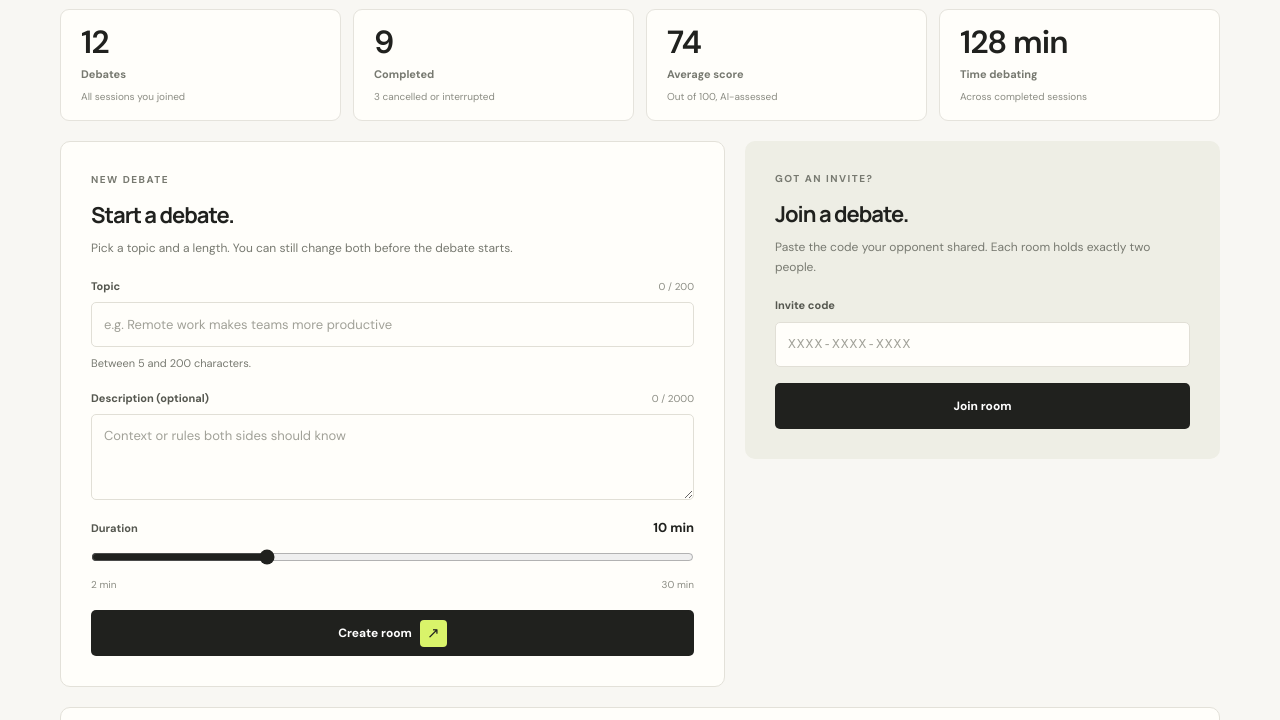
Test: DashboardPage › explains join failures
This screenshot has width=1280, height=720.
(page scrolled)
Click the button "Join room" at coordinates (982, 406), box x1=775 y1=383 x2=1190 y2=429
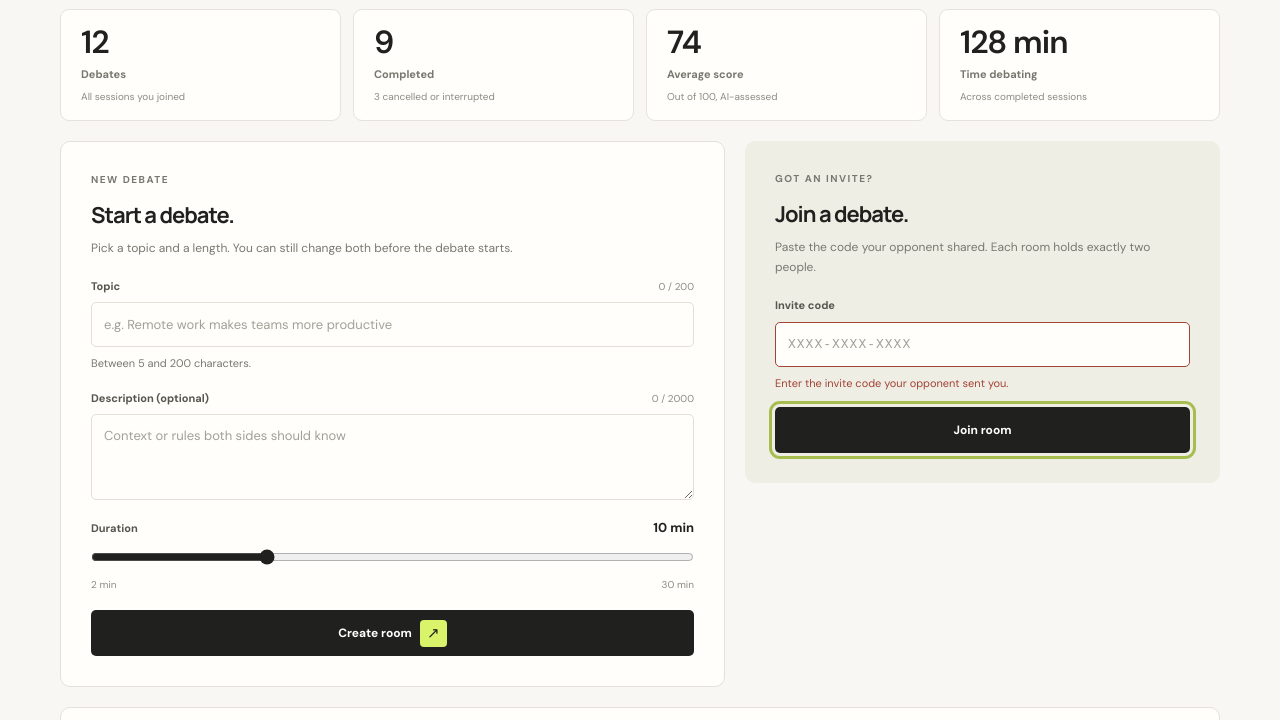
Type "expired" into the field labelled "Invite code" at coordinates (982, 344), box x1=775 y1=322 x2=1190 y2=367
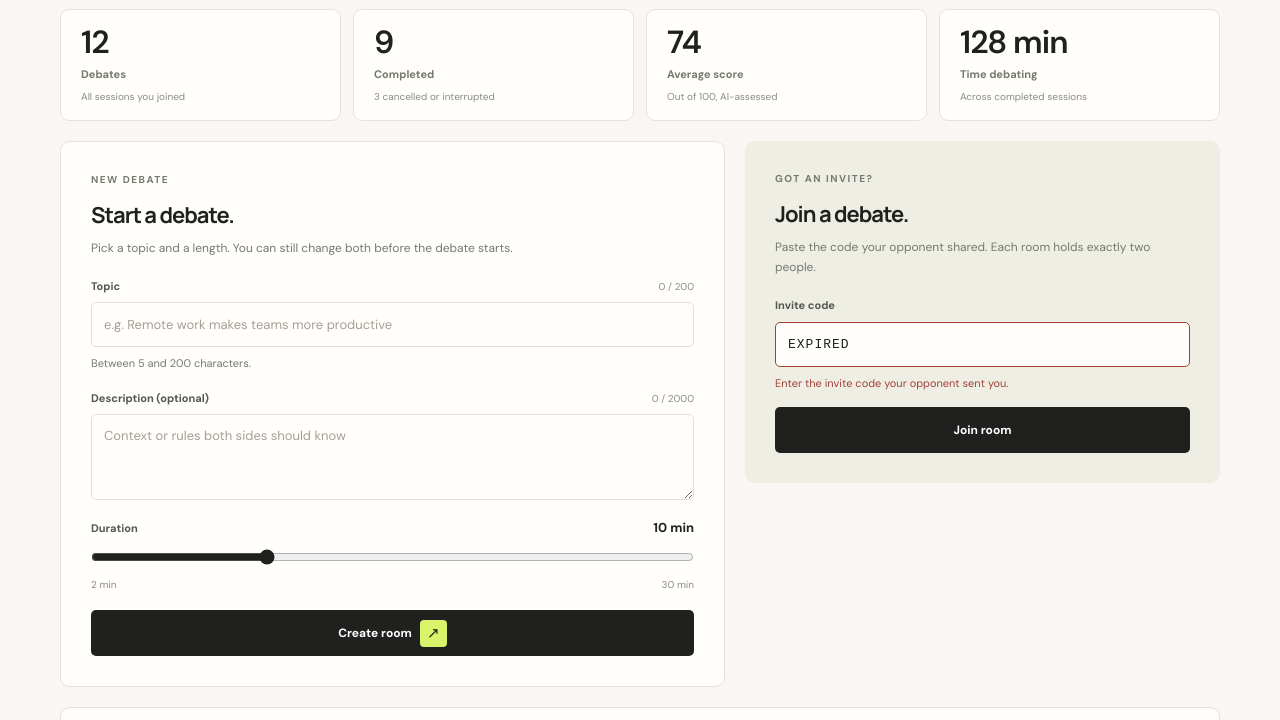
Click the button "Join room" at coordinates (982, 430), box x1=775 y1=407 x2=1190 y2=453
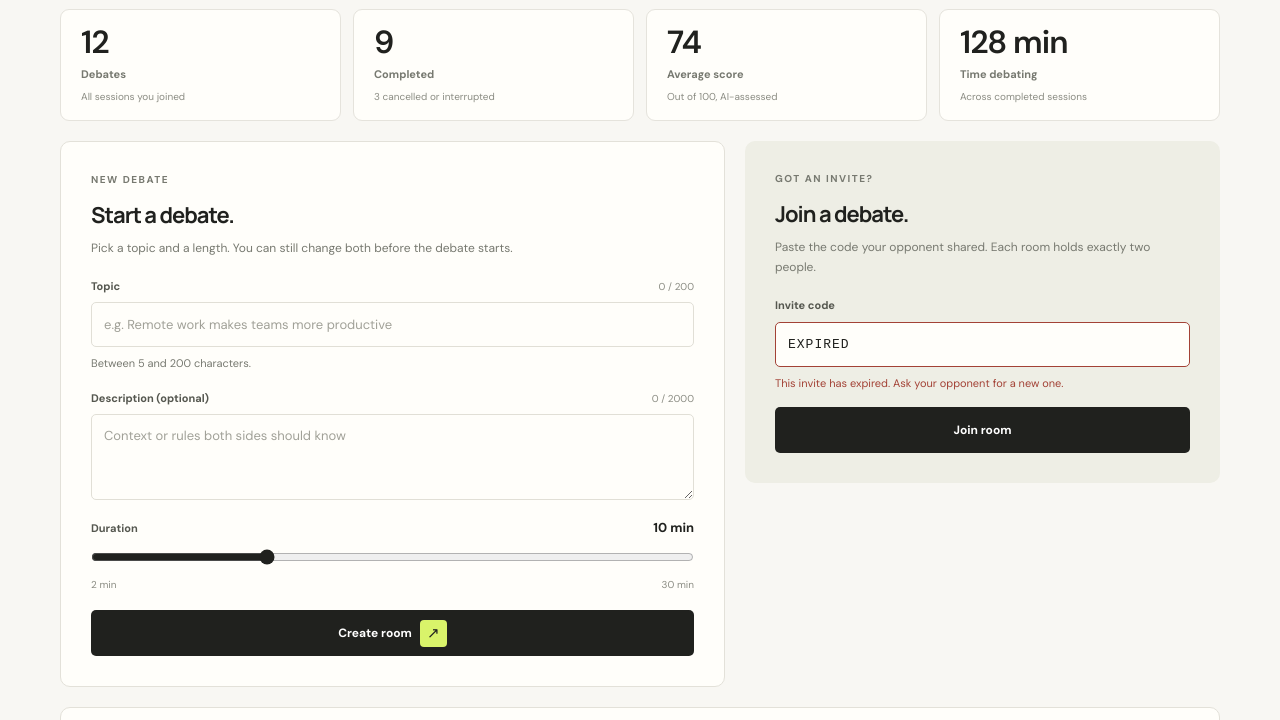
Expected: the text "This invite has expired. Ask your opponent for a new one." is shown, x1=775 y1=376 x2=1064 y2=390
